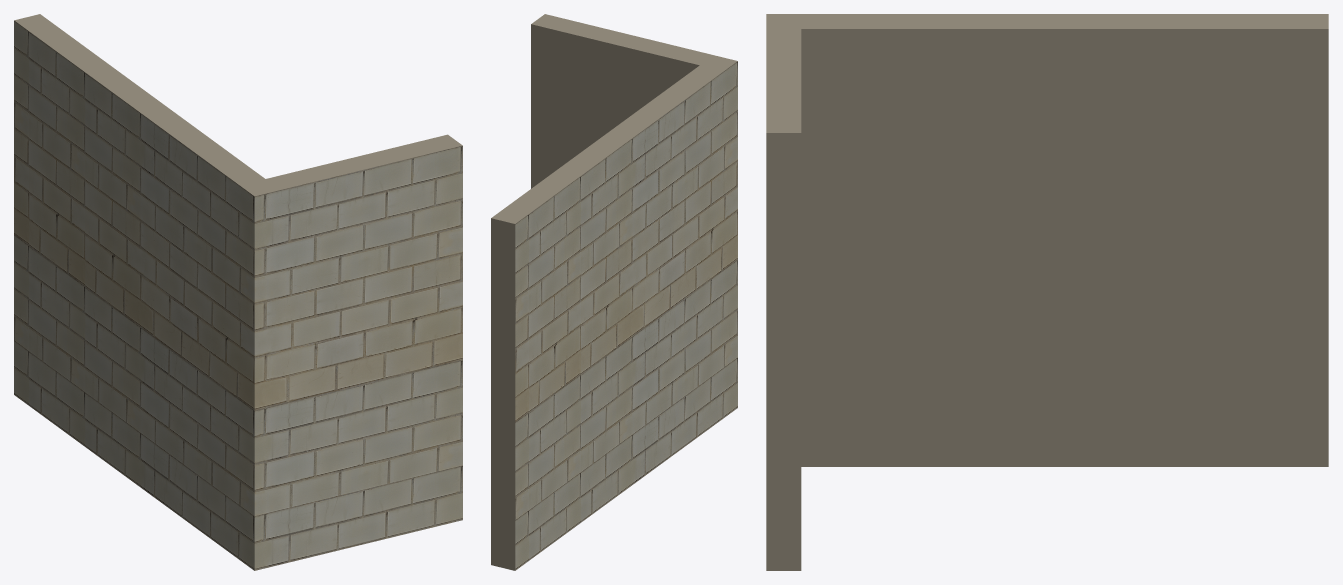
The picture shows the model from 3 angles, left to right: view 1: azimuth 30°, elevation 25°; view 2: azimuth 150°, elevation 25°; view 3: azimuth 270°, elevation 25°; orthographic projection. The views are drawn at different scales.
Parts seen in each view (by area): view 1: wall; view 2: wall; view 3: wall.
Part boxes in pixels (x1,y1,x2,y2): wall: (14,14,462,570); wall: (491,14,737,570); wall: (766,14,1328,570).
Bounding box in the file's own units: 16 × 27.5 × 32.
